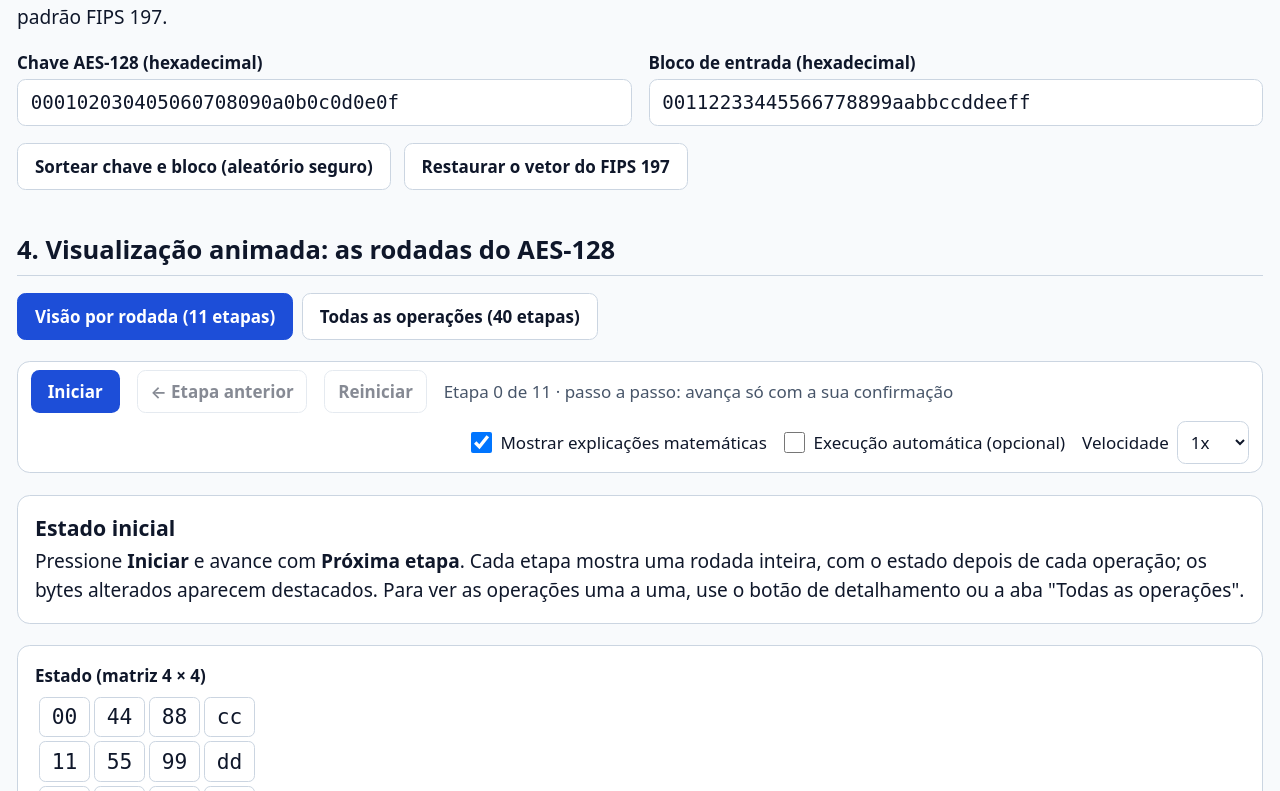
laboratório de AES e modos de operação › Parte A: nada avança sozinho
This screenshot has width=1280, height=791.
(page scrolled)
Check: the heading "Estado inicial" is shown, box [35, 513, 175, 542]
Check: the checkbox labelled "Execução automática (opcional)" is not checked, box [784, 432, 805, 453]
Click the button "Iniciar".
click(75, 392)  # box [31, 370, 120, 413]
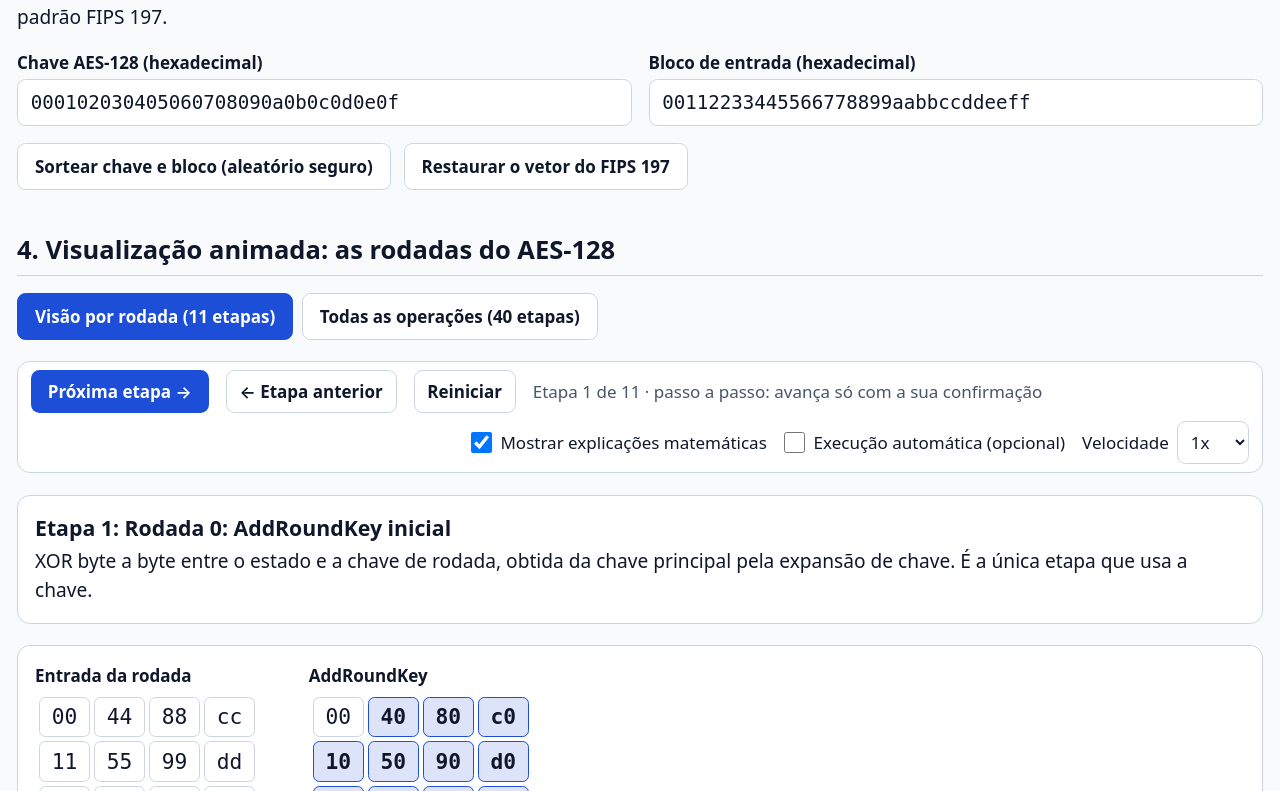
Check: the text "Etapa 1 de 11 · passo a passo" is shown, box [533, 379, 1042, 404]
